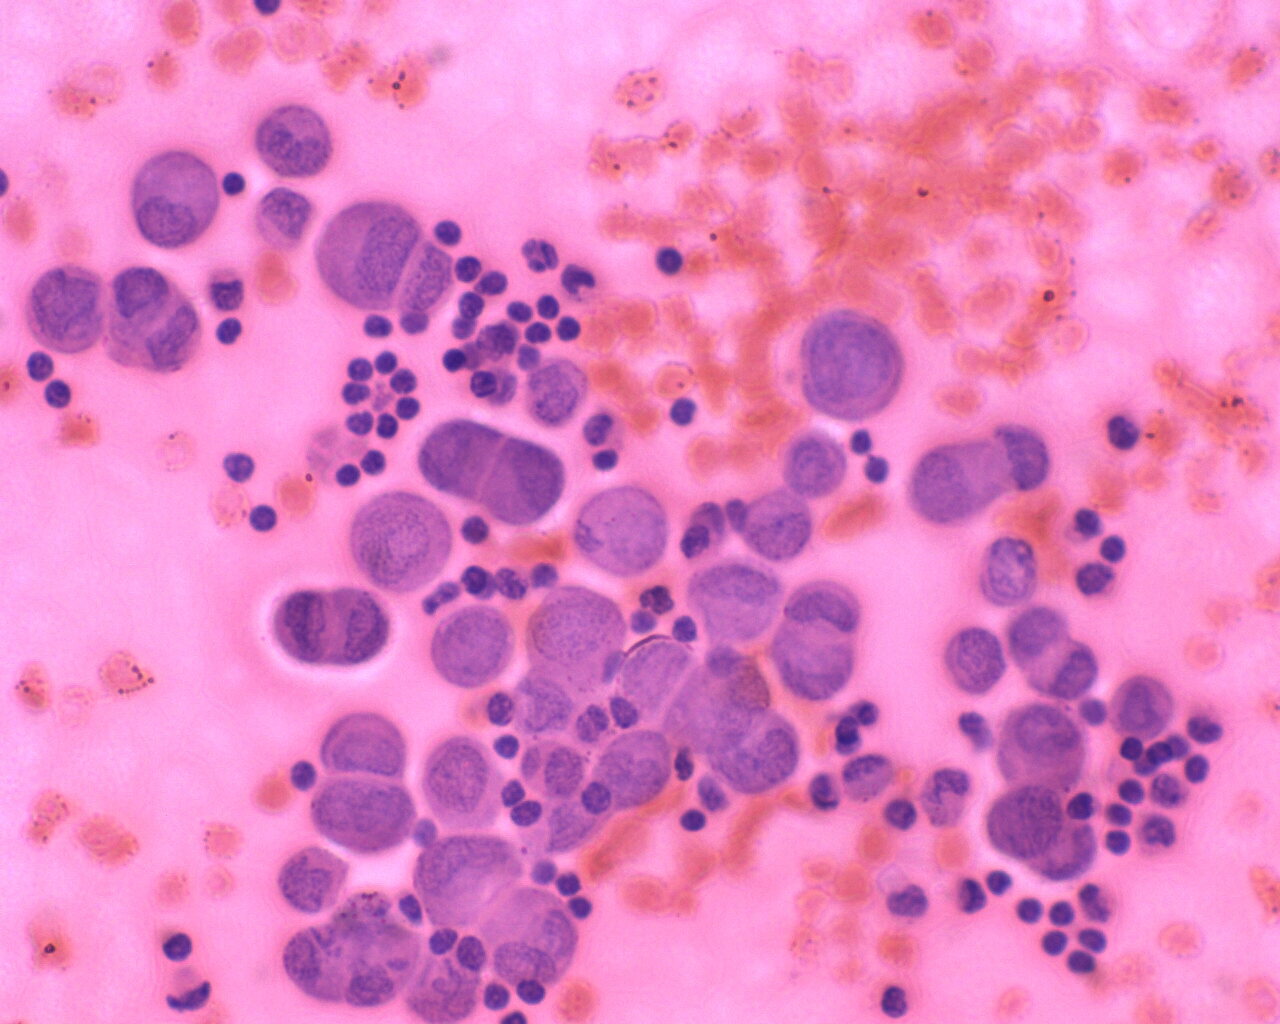ab: (794, 309, 908, 420), (311, 195, 418, 307), (106, 265, 202, 382), (417, 829, 522, 930), (573, 481, 676, 580), (316, 776, 424, 859), (24, 262, 118, 354), (420, 734, 508, 831), (489, 430, 568, 531), (428, 604, 516, 693), (982, 775, 1066, 865), (912, 436, 996, 525), (409, 416, 497, 496), (251, 100, 338, 180), (266, 582, 334, 677), (272, 842, 353, 915), (1104, 671, 1184, 744), (328, 585, 395, 670), (777, 427, 856, 498), (980, 421, 1056, 491), (938, 623, 1008, 695)
lymph: (644, 240, 689, 282), (155, 928, 201, 965), (1095, 532, 1138, 569), (39, 374, 82, 411), (371, 344, 408, 380), (676, 800, 707, 841), (245, 499, 280, 535), (218, 165, 254, 199), (1016, 889, 1045, 926), (432, 220, 468, 249)
